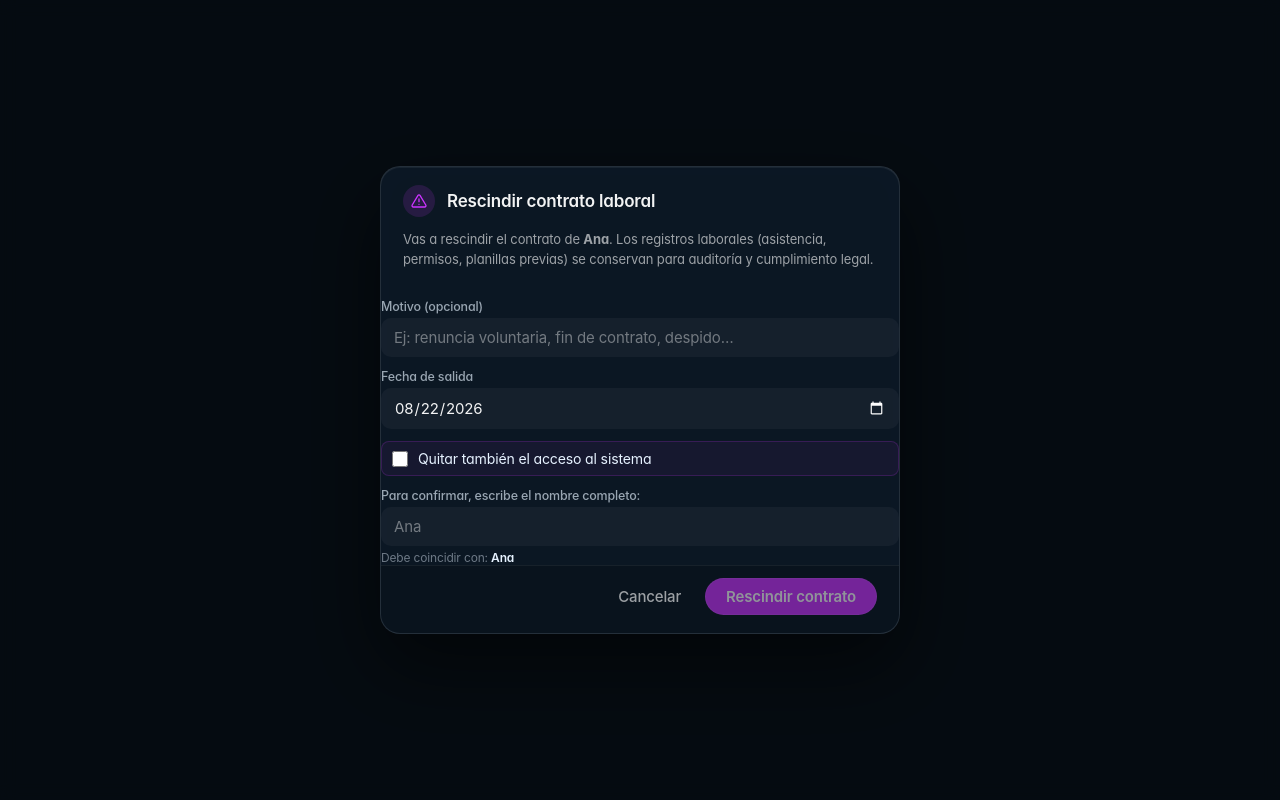
Scenario: <EmployeeTerminationModal /> › button label switches when the "also revoke access" checkbox is on
Expected: the button "Rescindir contrato" is shown, [705,578,877,615]
Click the checkbox labelled "Quitar también el acceso al sistema": (400,459) [392,451,408,467]
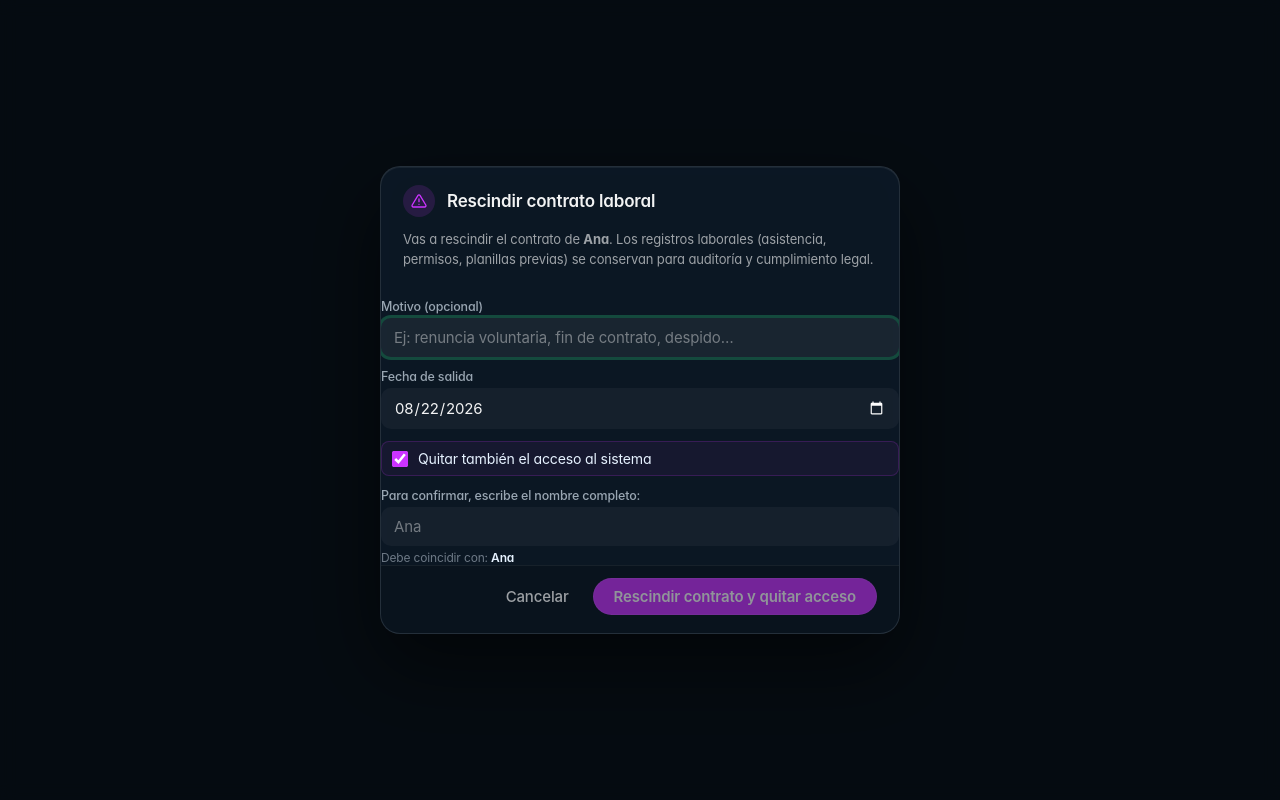
Result: the button "Rescindir contrato y quitar acceso" is shown at [593,578,877,615]
